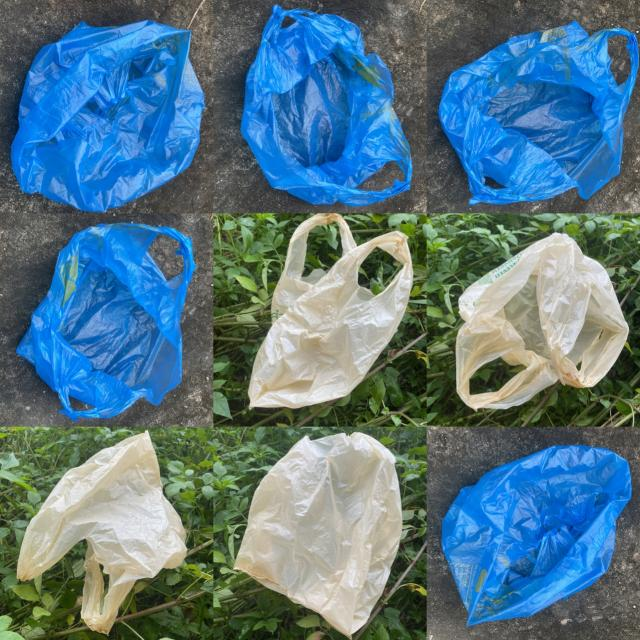Single-layer Plastic: (11, 20, 204, 211), (439, 21, 639, 204), (16, 224, 195, 421), (241, 6, 412, 206), (235, 432, 402, 636), (18, 431, 186, 633), (442, 445, 631, 624), (249, 214, 412, 409), (456, 232, 629, 409)
